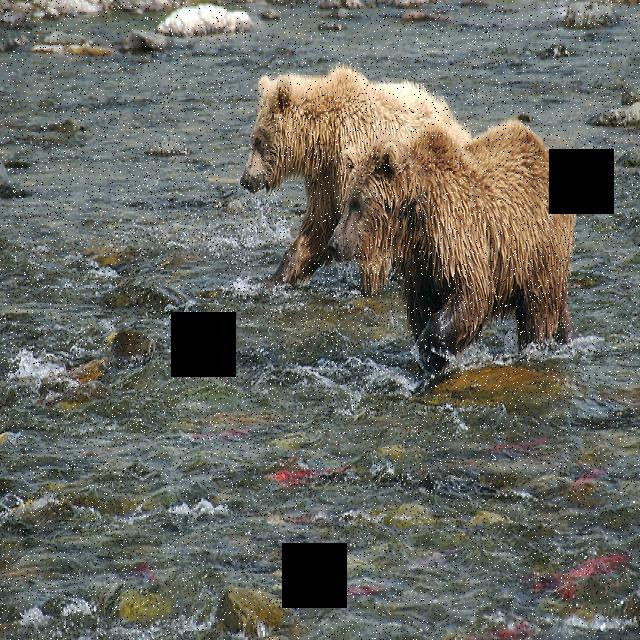Bear: (333, 130, 579, 366), (241, 61, 479, 293)
